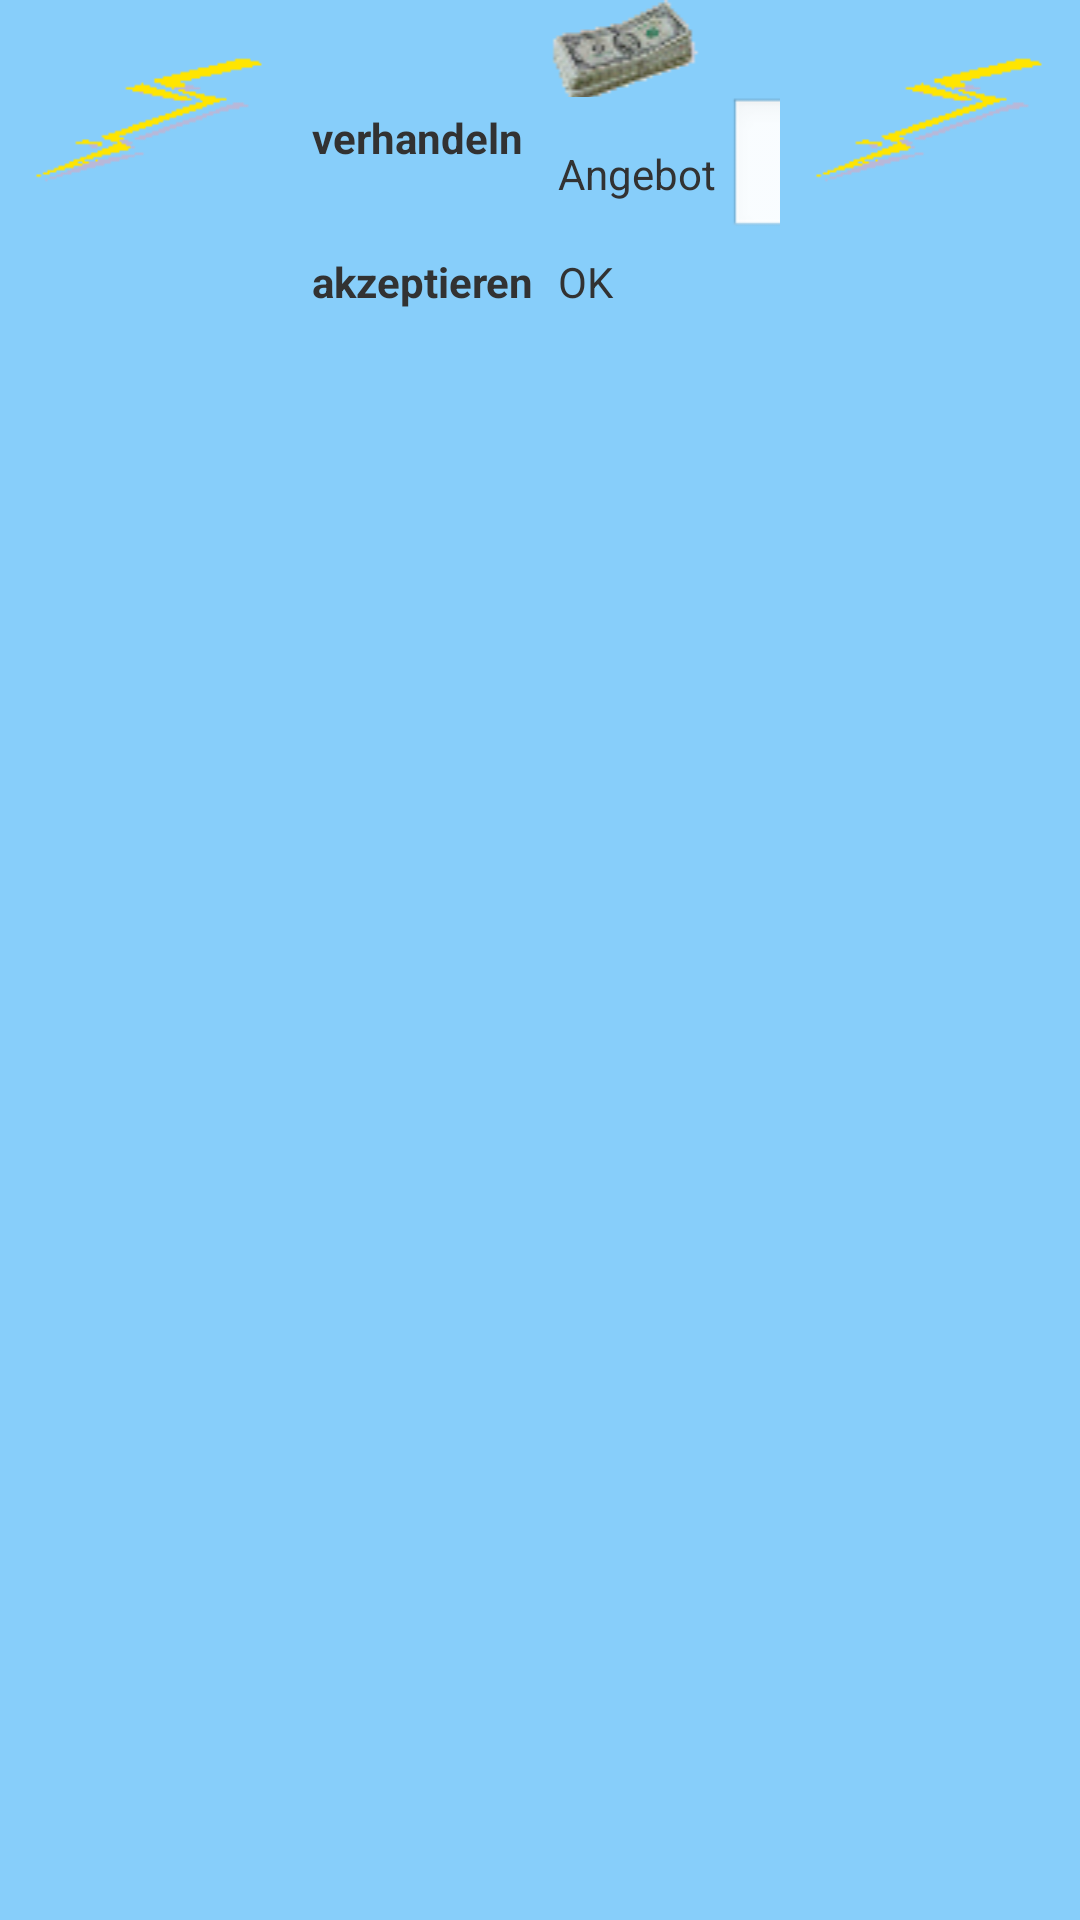

Locate icon controls on the screen. Image size 1080 x 1920, boxes as (x1, y1, x2, y2).
lightening: (36, 58, 262, 181), (816, 58, 1042, 181)
money: (553, 0, 698, 97)
